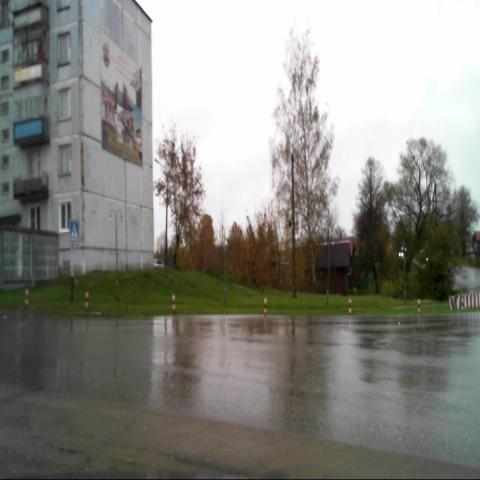5_19_1: (69, 218, 80, 244)
